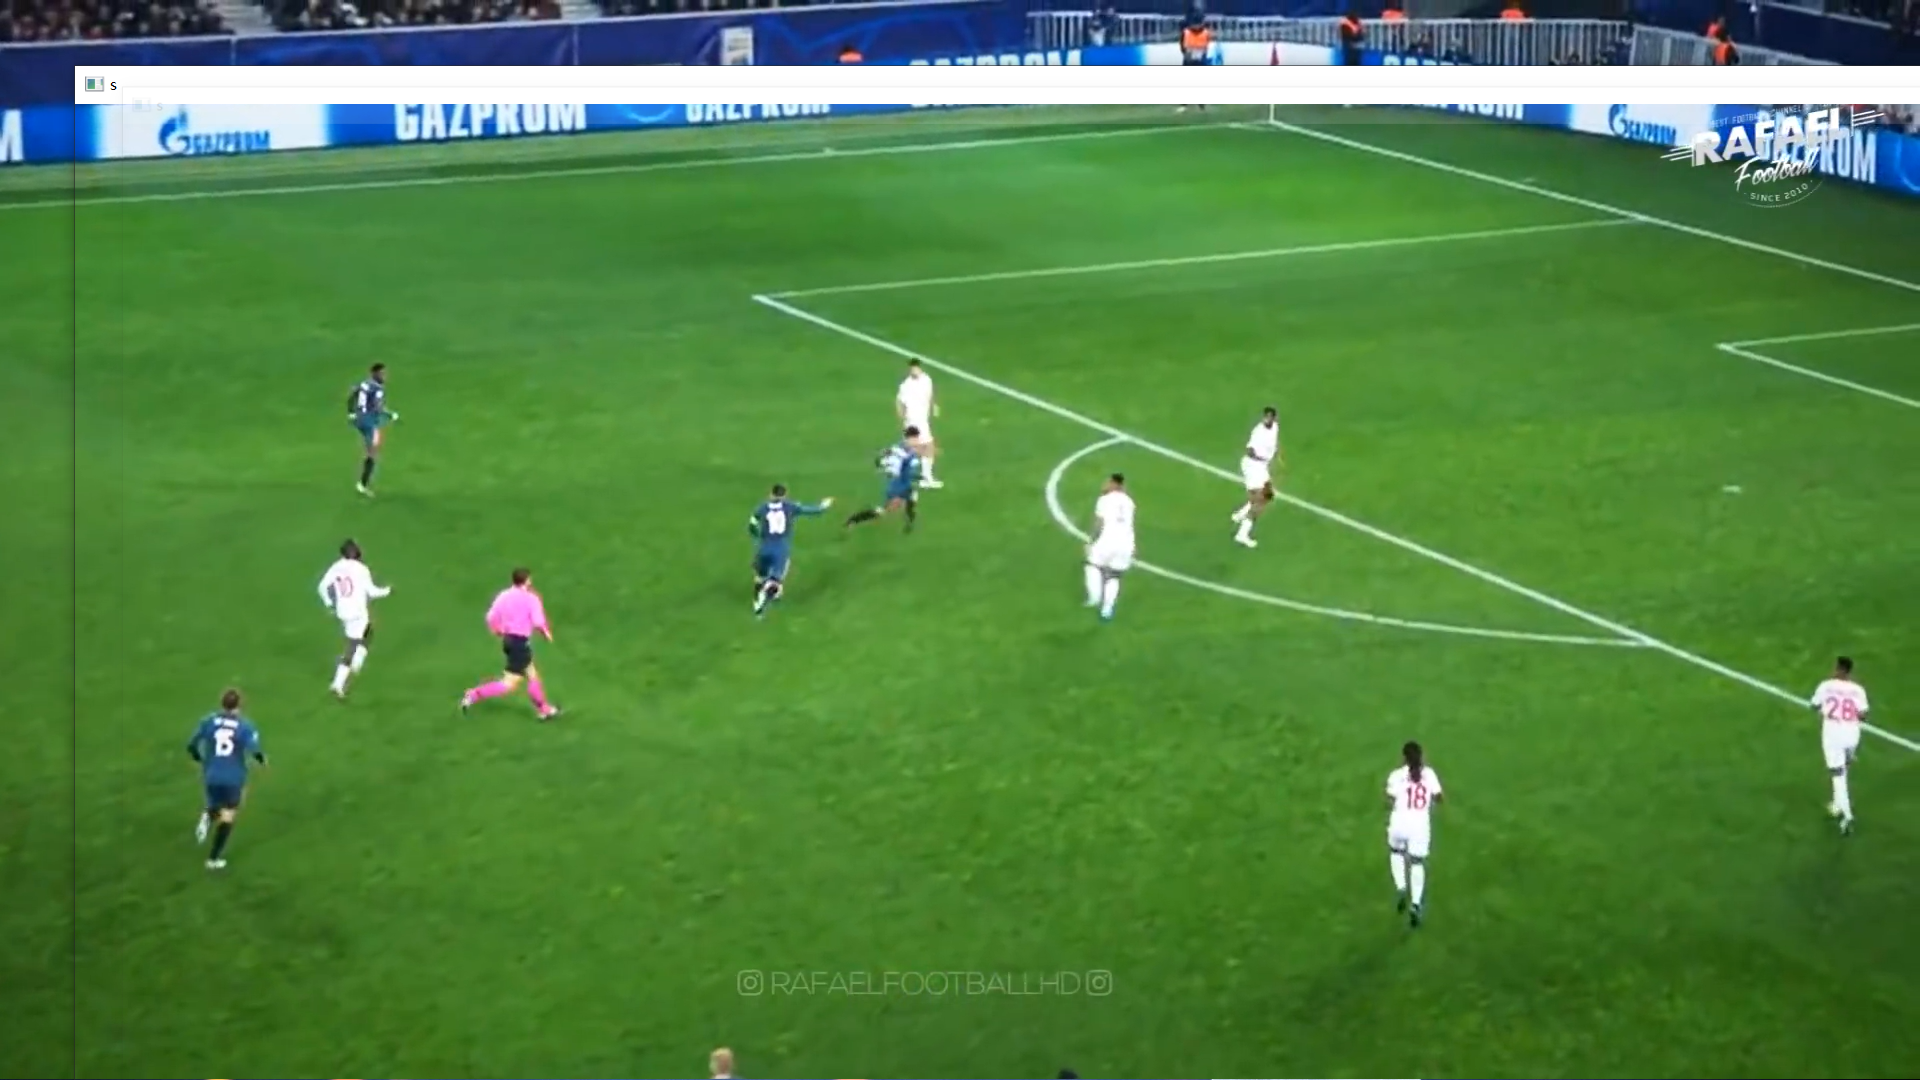ft: (764, 582, 785, 603)
